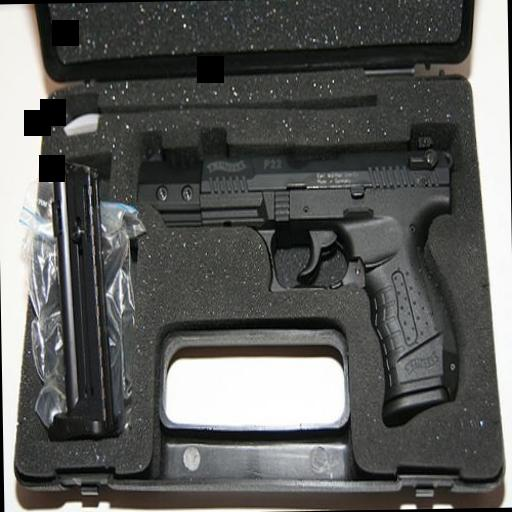Handgun: (134, 130, 458, 434)
